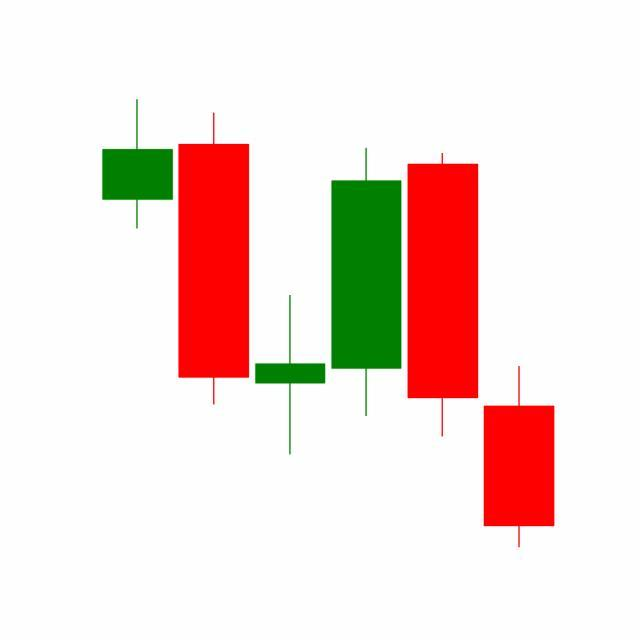Three Outside Up-Down: (326, 143, 555, 548)
